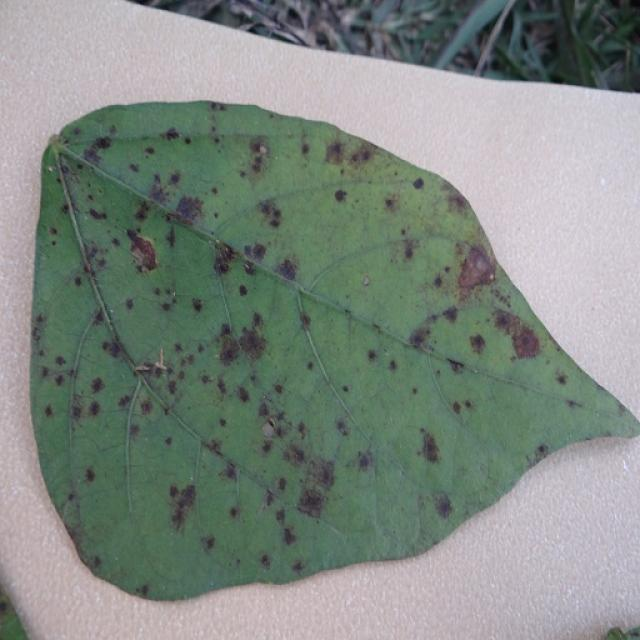Anthracnose: (407, 417, 449, 467), (456, 246, 497, 294), (167, 481, 199, 534), (296, 480, 332, 520), (126, 230, 159, 272), (245, 136, 274, 181), (237, 322, 269, 362), (508, 322, 541, 359), (173, 194, 206, 226), (217, 332, 244, 367), (82, 240, 109, 273), (241, 242, 270, 271), (256, 199, 284, 229), (146, 176, 172, 208), (213, 245, 237, 276), (282, 443, 307, 470), (487, 285, 513, 310), (347, 143, 374, 167), (408, 325, 433, 350), (397, 237, 420, 264), (275, 257, 298, 282), (433, 492, 453, 520), (101, 337, 123, 360), (325, 140, 346, 164), (205, 439, 225, 460), (133, 199, 151, 222), (357, 448, 374, 472), (469, 332, 486, 355), (369, 321, 387, 340), (441, 305, 459, 323), (70, 397, 84, 420), (282, 526, 297, 547), (222, 460, 237, 481), (165, 224, 177, 249), (298, 307, 312, 328), (89, 377, 105, 395), (235, 385, 250, 404), (87, 207, 106, 222), (162, 127, 181, 141), (258, 493, 271, 513), (139, 399, 153, 417), (87, 400, 101, 418), (449, 359, 465, 374), (201, 535, 215, 552), (335, 419, 349, 436), (534, 444, 548, 461), (96, 136, 112, 150), (262, 421, 275, 438), (216, 378, 228, 396), (191, 298, 204, 314), (555, 372, 569, 386), (84, 467, 96, 483), (167, 380, 178, 397), (334, 189, 347, 203), (53, 373, 66, 387), (566, 398, 582, 409), (412, 177, 425, 190), (209, 102, 227, 111), (54, 355, 67, 367), (292, 560, 304, 573), (387, 358, 398, 372), (451, 401, 462, 415), (238, 284, 249, 298), (277, 476, 287, 491), (367, 349, 378, 362), (260, 554, 271, 567), (301, 142, 311, 156), (91, 555, 101, 569), (161, 301, 172, 313), (138, 584, 149, 596), (229, 506, 239, 519), (125, 298, 135, 311), (73, 275, 83, 288), (44, 404, 53, 418), (273, 384, 284, 395), (384, 198, 395, 209), (0, 599, 8, 613), (433, 276, 443, 287), (144, 147, 156, 156), (244, 261, 253, 273), (267, 418, 276, 429), (72, 127, 82, 136), (164, 436, 172, 446), (362, 276, 370, 286), (202, 375, 212, 383), (259, 145, 267, 154), (341, 385, 349, 393), (344, 308, 351, 316), (47, 166, 53, 173)
Blackgram: (32, 104, 639, 599)
